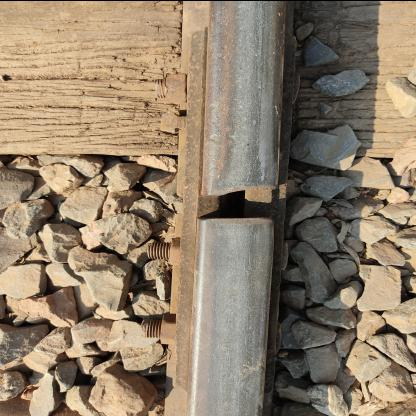Defective 2: (166, 146, 312, 266)
